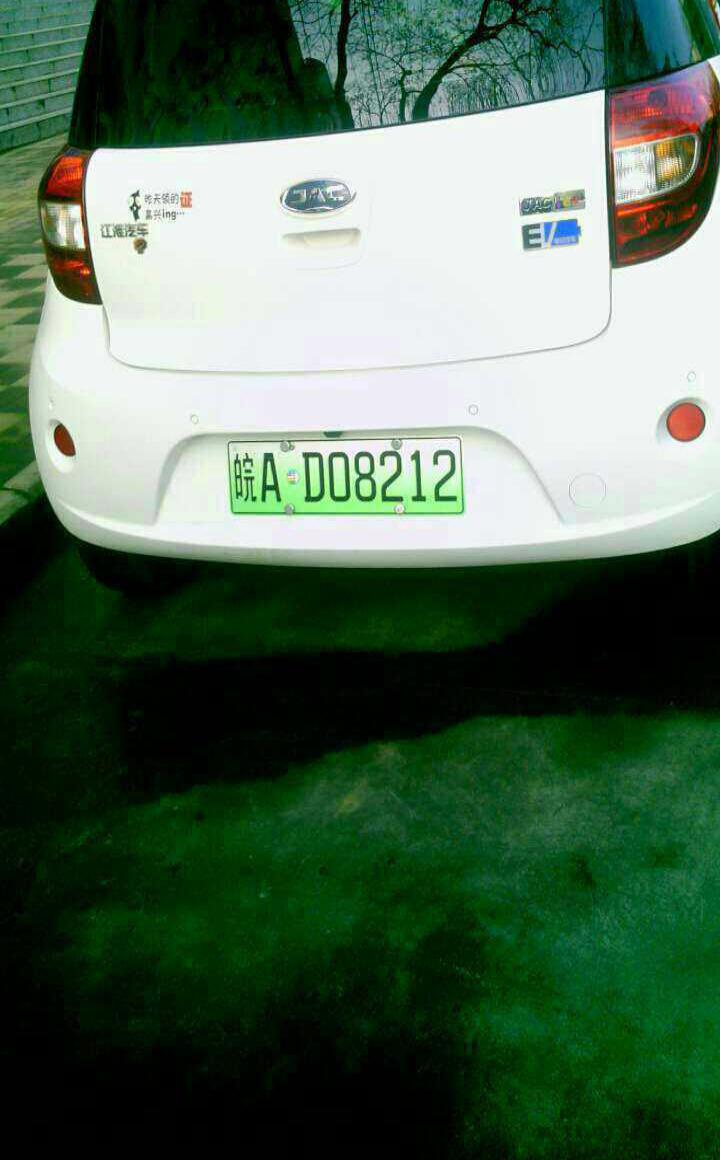car: (208, 435, 472, 526)
